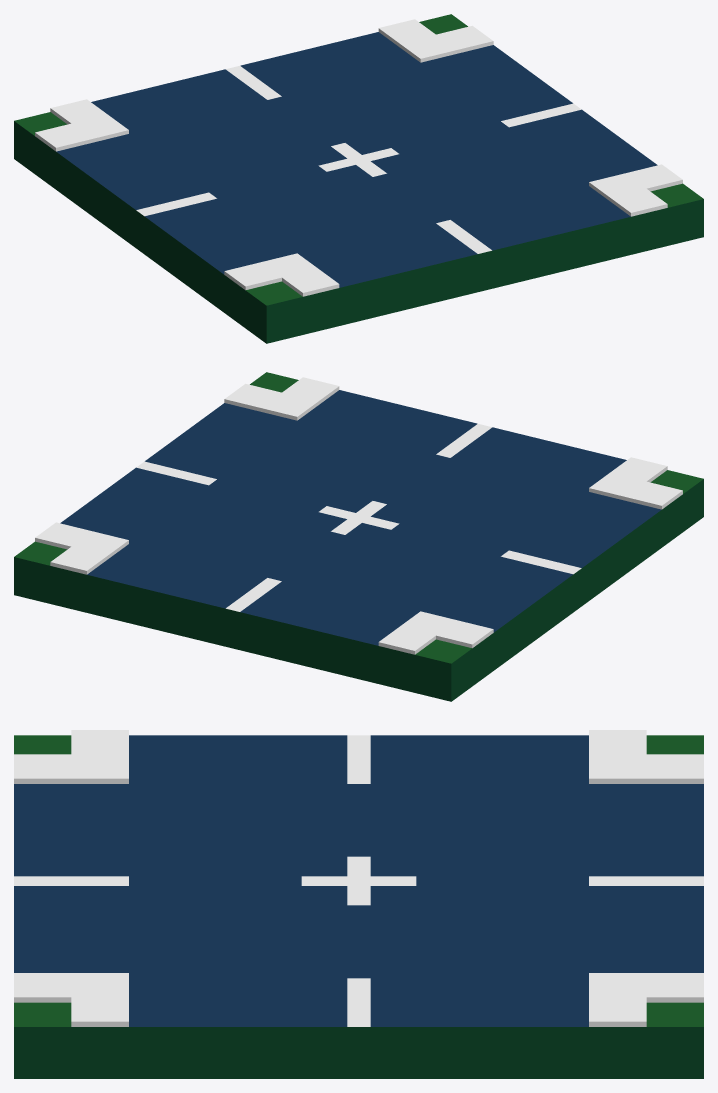
Rendered from road - Intersection.glb.
3 renders of one model, top to bottom at view 1: azimuth 30°, elevation 25°; view 2: azimuth 150°, elevation 25°; view 3: azimuth 270°, elevation 25°, orthographic. The views are drawn at different scales.
Visible parts, largest first — view 1: intersection; view 2: intersection; view 3: intersection.
Part boxes in pixels (x1,y1,x2,y2): intersection: (14, 14, 703, 343); intersection: (14, 372, 703, 701); intersection: (14, 730, 703, 1078).
Bounding box in the file's own units: 12 × 1.1 × 12.
1 material, 1 textured.
